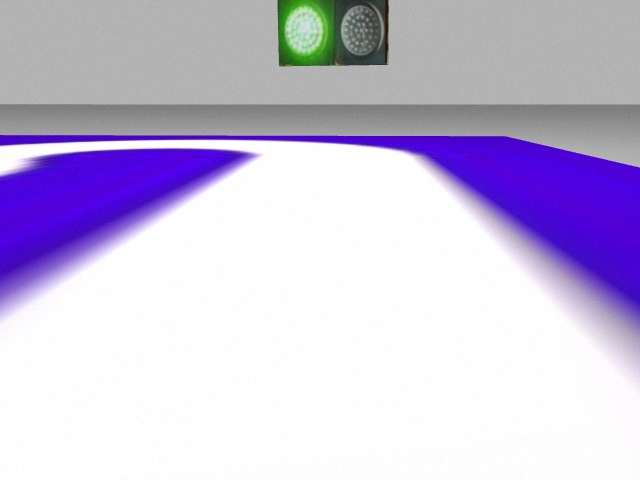green: (277, 1, 334, 66)
